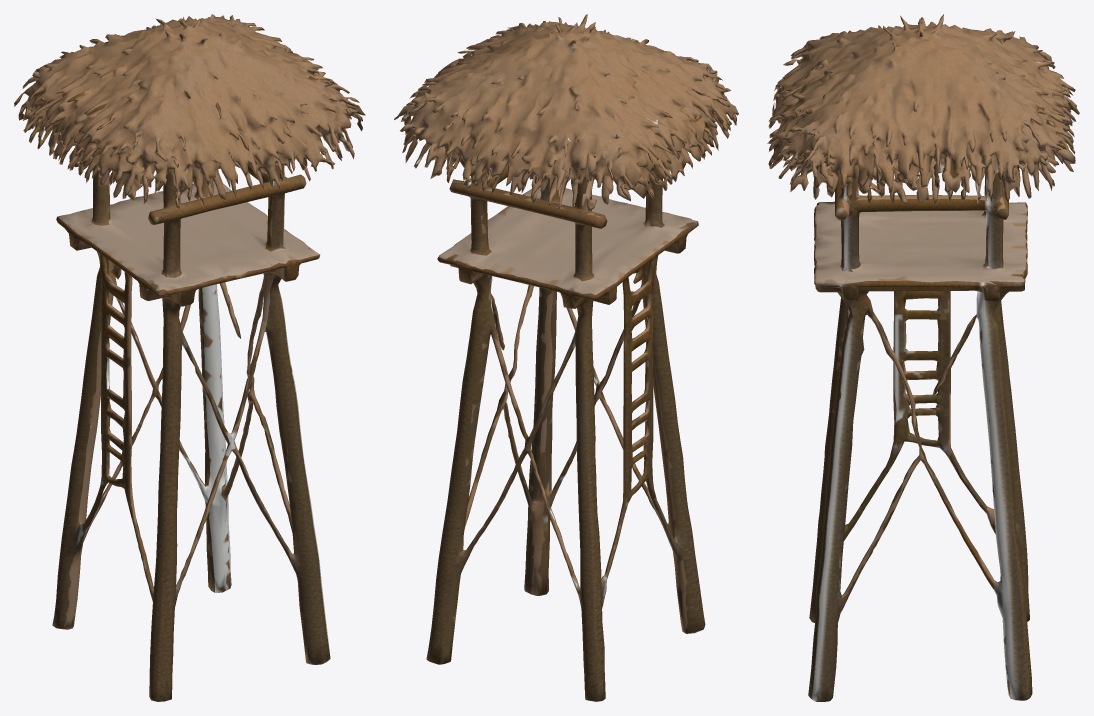
Rendered from mangrullo.glb.
The picture shows the model from 3 angles, left to right: view 1: azimuth 30°, elevation 25°; view 2: azimuth 150°, elevation 25°; view 3: azimuth 270°, elevation 25°; orthographic projection. The views are drawn at different scales.
Parts seen in each view (by area): view 1: temp_mesh.ply; view 2: temp_mesh.ply; view 3: temp_mesh.ply.
Part boxes in pixels (x1,y1,x2,y2): temp_mesh.ply: [14, 14, 365, 701]; temp_mesh.ply: [394, 14, 738, 701]; temp_mesh.ply: [767, 14, 1079, 701].
Bounding box in the file's own units: 4.06 × 9 × 4.
1 material, 1 textured.
